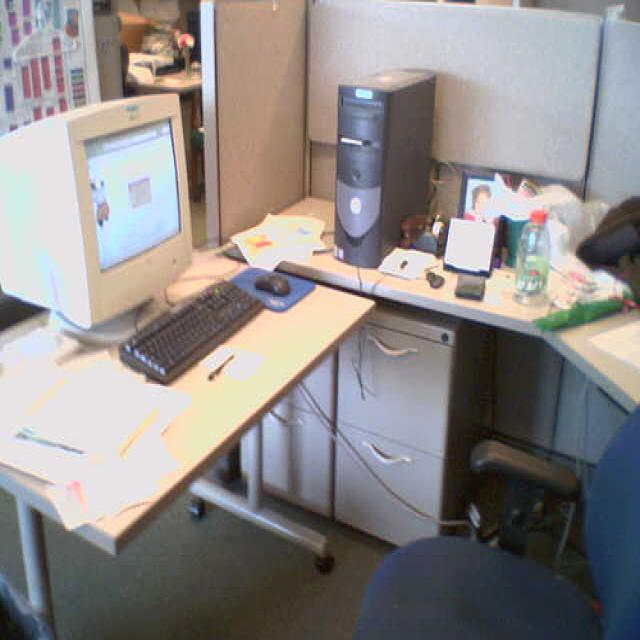bottle: (513, 211, 555, 305)
chair: (349, 409, 640, 639)
tvmonitor: (1, 90, 201, 351)
